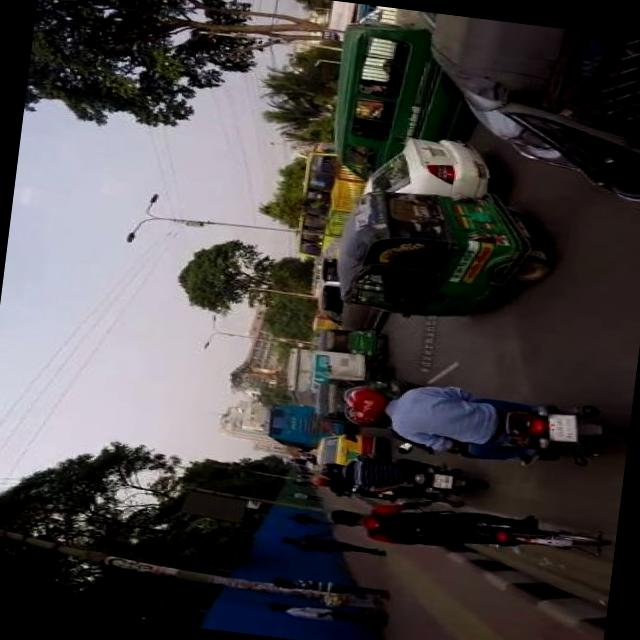bus: (291, 141, 355, 261), (261, 399, 344, 454)
car: (360, 130, 490, 209), (306, 430, 372, 472)
motorcycle: (404, 13, 640, 247), (328, 177, 554, 333), (391, 382, 626, 481), (310, 370, 405, 433), (394, 459, 486, 501), (315, 324, 382, 358)
truck: (324, 18, 468, 192), (275, 345, 371, 414), (311, 258, 383, 334)
